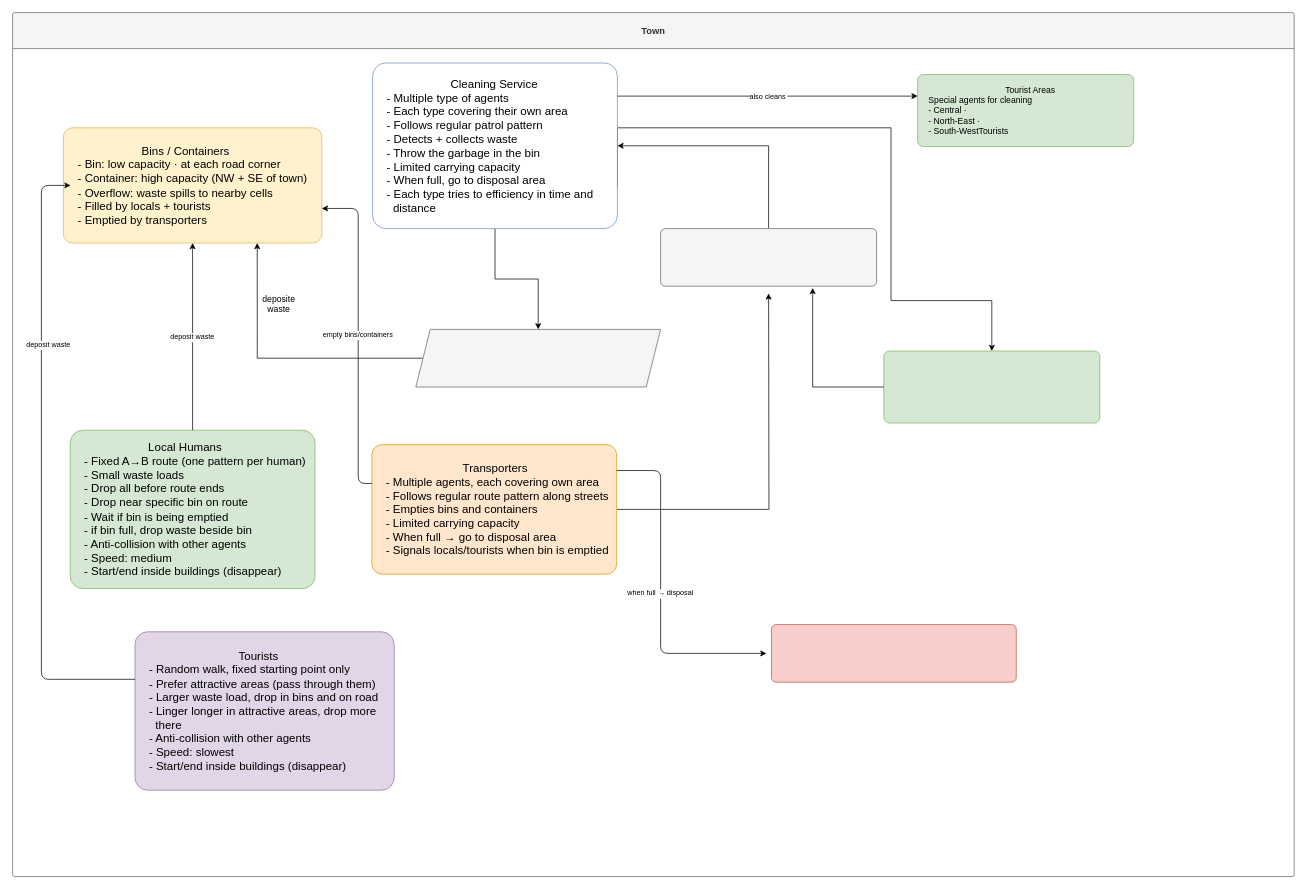
Some shapes in this 1307 by 889 pixel diagram are drawn without their labels. The centre of each missing label's shape, as x and y in pixels:
"Anti-Collision System - Shared by locals + tourists - Prevents agent overlap" belongs at pixel 768 257.
"Disposal Area - Deletes / terminates waste" belongs at pixel 893 653.
"Main Pathways Special Agents for cleaning - Roads - Regular Petrolling Areas" belongs at pixel 991 386.
"Waste State: in bin · on sidewalk · on road · tourist spot" belongs at pixel 538 358.
